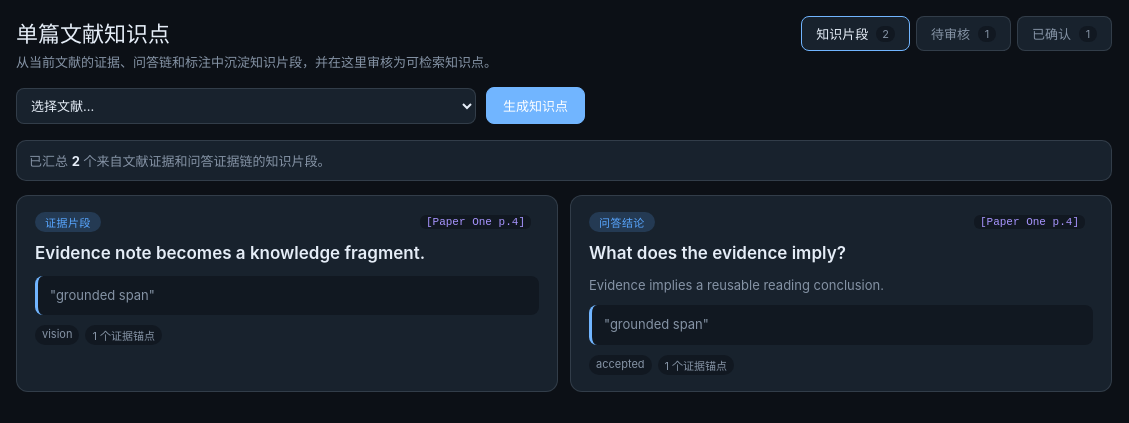
Test: Knowledge review › shows draft cards with anchored evidence and the confirm/refine/reject actions
Click the button "待审核 1" at (964, 34), box [916,16,1011,51]
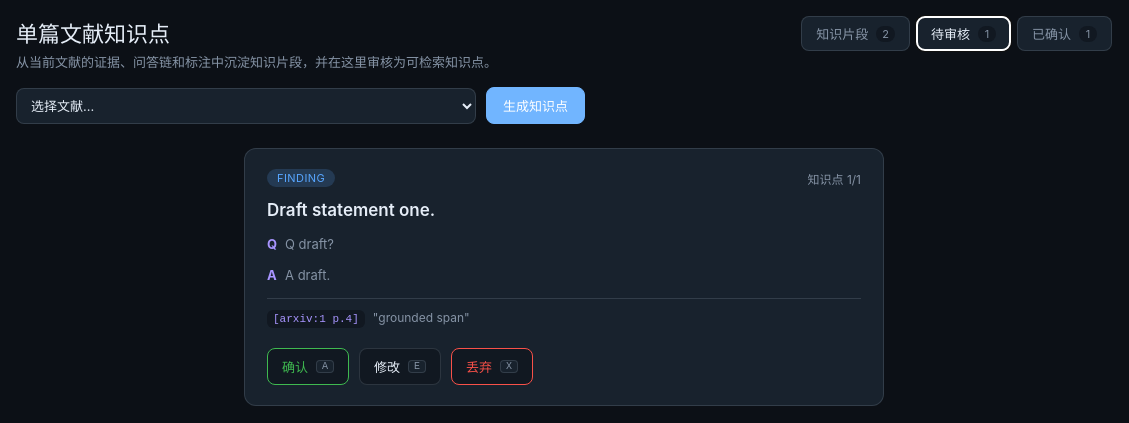
Expected: the text "Draft statement one." is shown, [267,200,435,220]
Expected: the text "[arxiv:1 p.4]" is shown, [267,310,365,328]
Expected: the button "确认 A" is shown, [267,348,349,385]
